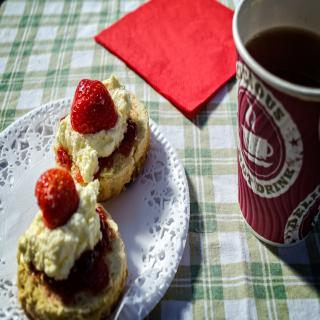Strawberry: (34, 170, 80, 232), (72, 80, 120, 133)
